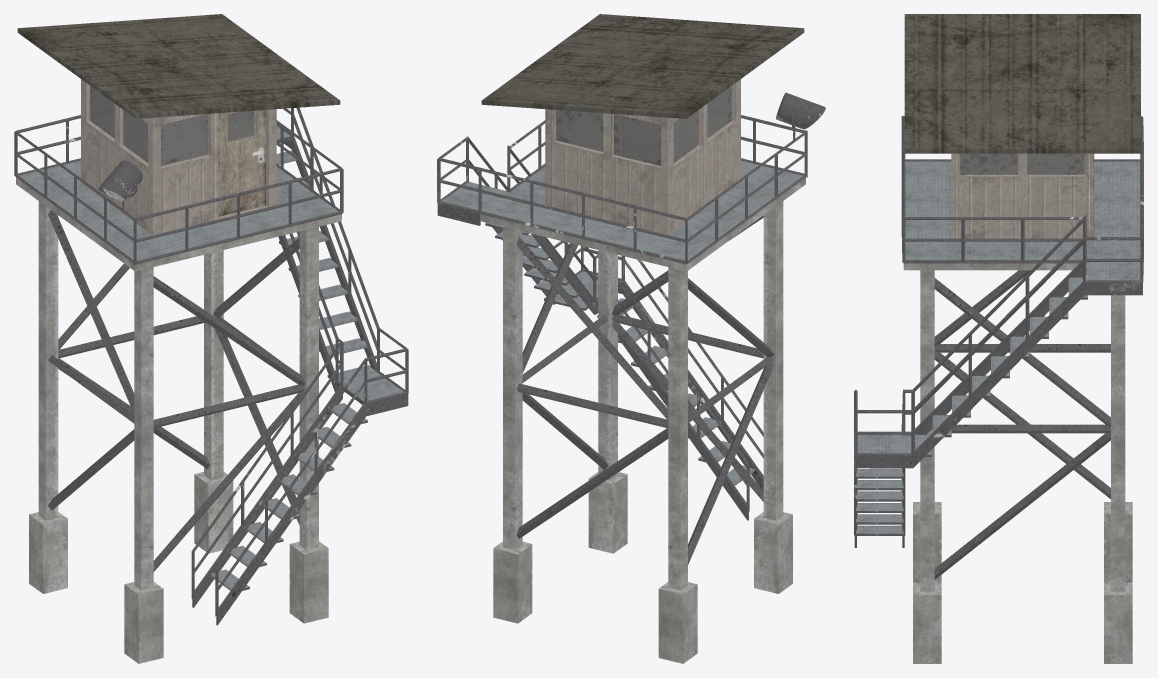
The model's file is lm-guardTower.glb.
3 views of the same model, side by side, from view 1: azimuth 30°, elevation 25°; view 2: azimuth 150°, elevation 25°; view 3: azimuth 270°, elevation 25° (orthographic).
Visible parts, largest first — view 1: Pillars_Cube.003, Roof_Cube.005, Booth_Cube.004, Plane.002, Plane.005_Plane.008, Platform_Cube.001, Plane.003_Plane.005, Steps1_Plane.001, Steps2_Plane.007, Plane, Fllodlight_Cylinder; view 2: Pillars_Cube.003, Roof_Cube.005, Booth_Cube.004, Plane.005_Plane.008, Plane.002, Platform_Cube.001, Plane.003_Plane.005, Steps2_Plane.007, Steps1_Plane.001, Plane, Fllodlight_Cylinder; view 3: Roof_Cube.005, Pillars_Cube.003, Platform_Cube.001, Booth_Cube.004, Plane.002, Plane.005_Plane.008, Plane.003_Plane.005, Steps1_Plane.001, Plane, Steps2_Plane.007.
Boxes of the visible parts, x1,y1,x2,y2 form: Pillars_Cube.003: [29, 201, 328, 663]; Roof_Cube.005: [17, 14, 340, 118]; Booth_Cube.004: [81, 79, 276, 235]; Plane.002: [14, 107, 408, 616]; Plane.005_Plane.008: [48, 210, 305, 571]; Platform_Cube.001: [16, 160, 341, 271]; Plane.003_Plane.005: [192, 138, 408, 625]; Steps1_Plane.001: [210, 403, 367, 590]; Steps2_Plane.007: [276, 150, 376, 381]; Plane: [276, 126, 403, 404]; Fllodlight_Cylinder: [98, 160, 142, 200]; Pillars_Cube.003: [493, 201, 792, 663]; Roof_Cube.005: [481, 14, 804, 118]; Booth_Cube.004: [545, 79, 740, 235]; Plane.005_Plane.008: [516, 215, 773, 564]; Plane.002: [437, 115, 807, 511]; Platform_Cube.001: [480, 160, 805, 271]; Plane.003_Plane.005: [437, 203, 763, 520]; Steps2_Plane.007: [485, 222, 588, 310]; Steps1_Plane.001: [597, 298, 754, 485]; Plane: [442, 182, 622, 298]; Fllodlight_Cylinder: [776, 92, 825, 129]; Roof_Cube.005: [904, 14, 1140, 153]; Pillars_Cube.003: [913, 270, 1132, 663]; Platform_Cube.001: [903, 161, 1140, 270]; Booth_Cube.004: [951, 153, 1094, 241]; Plane.002: [854, 115, 1143, 535]; Plane.005_Plane.008: [934, 270, 1110, 579]; Plane.003_Plane.005: [854, 265, 1142, 547]; Steps1_Plane.001: [856, 468, 903, 535]; Plane: [857, 262, 1140, 453]; Steps2_Plane.007: [915, 277, 1087, 456].
Bounding box in the file's own units: 3.71 × 7.12 × 3.37.
Materials: 1 (1 with a texture image).
